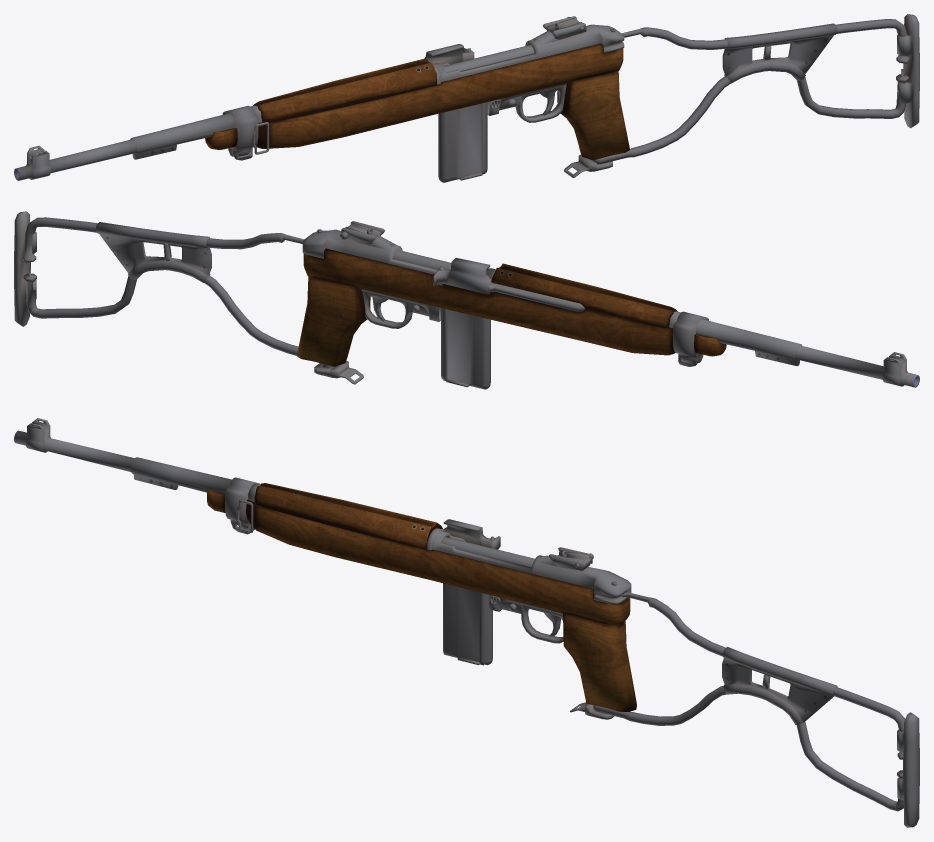
Rendered from m1a1_carabine_free.glb.
The picture shows the model from 3 angles, top to bottom: view 1: azimuth 30°, elevation 25°; view 2: azimuth 150°, elevation 25°; view 3: azimuth 330°, elevation 25°; orthographic projection.
Visible parts, largest first — view 1: HandguardButtom_low, HandguardTop_low, Stock_low, Grip_low, Barrel1_low, StockCover_low, Magazine_low, Barrel2_low, StockButt_low, Cap_low, TriggerGuard_low, Bolt_low (+2 smaller); view 2: HandguardButtom_low, Stock_low, Grip_low, Barrel1_low, StockCover_low, HandguardTop_low, Magazine_low, Barrel2_low, Bolt_low, StockButt_low, Cap_low, TriggerGuard_low (+2 smaller); view 3: HandguardButtom_low, HandguardTop_low, Grip_low, Stock_low, Barrel1_low, StockCover_low, Barrel2_low, Magazine_low, StockButt_low, Cap_low, TriggerGuard_low, Bolt_low.
Part boxes in pixels (bbox=[...]): HandguardButtom_low: bbox=[205, 43, 623, 149]; HandguardTop_low: bbox=[253, 58, 437, 122]; Stock_low: bbox=[593, 19, 909, 164]; Grip_low: bbox=[557, 71, 629, 160]; Barrel1_low: bbox=[14, 105, 261, 180]; StockCover_low: bbox=[722, 23, 837, 83]; Magazine_low: bbox=[438, 102, 487, 182]; Barrel2_low: bbox=[433, 24, 624, 84]; StockButt_low: bbox=[897, 14, 919, 128]; Cap_low: bbox=[222, 106, 258, 160]; TriggerGuard_low: bbox=[487, 83, 566, 122]; Bolt_low: bbox=[424, 44, 474, 64]; HandguardButtom_low: bbox=[303, 248, 726, 356]; Stock_low: bbox=[23, 217, 303, 355]; Grip_low: bbox=[297, 276, 370, 366]; Barrel1_low: bbox=[669, 311, 919, 387]; StockCover_low: bbox=[95, 222, 211, 282]; HandguardTop_low: bbox=[491, 263, 677, 327]; Magazine_low: bbox=[441, 308, 490, 389]; Barrel2_low: bbox=[302, 229, 585, 309]; Bolt_low: bbox=[433, 258, 584, 311]; StockButt_low: bbox=[14, 211, 36, 326]; Cap_low: bbox=[673, 311, 708, 366]; TriggerGuard_low: bbox=[361, 289, 440, 328]; HandguardButtom_low: bbox=[207, 489, 630, 625]; HandguardTop_low: bbox=[254, 483, 442, 549]; Grip_low: bbox=[563, 612, 636, 711]; Stock_low: bbox=[593, 592, 905, 811]; Barrel1_low: bbox=[14, 418, 260, 501]; StockCover_low: bbox=[722, 647, 837, 724]; Barrel2_low: bbox=[427, 528, 631, 604]; Magazine_low: bbox=[443, 583, 492, 665]; StockButt_low: bbox=[897, 712, 919, 827]; Cap_low: bbox=[225, 477, 260, 534]; TriggerGuard_low: bbox=[489, 595, 563, 643]; Bolt_low: bbox=[443, 519, 500, 549].
Bounding box in the file's own units: 4.38 × 0.8668 × 0.2258.
Materials: 1 (1 with a texture image).
